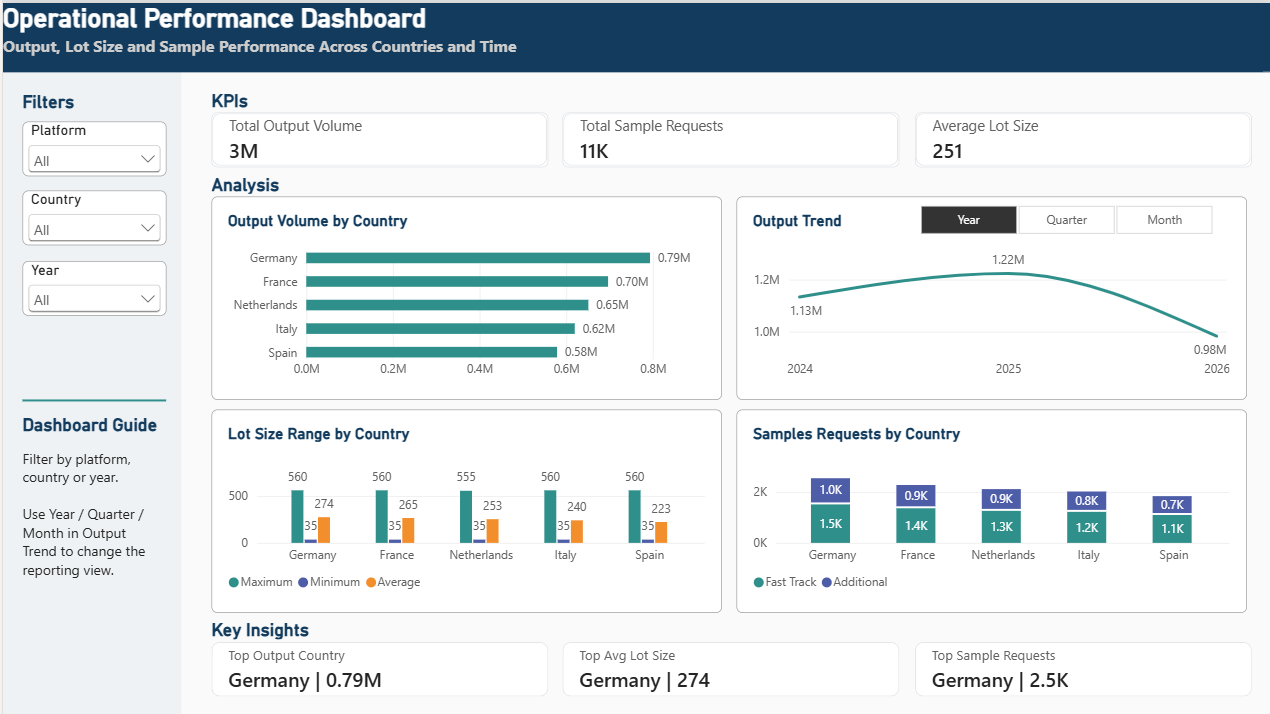

Layout of this report page (visuals, bound fields, positions):
{"tool":"powerbi","page":{"name":"Operational Dashboard","canvas":[1280,720],"ordinal":2},"visuals":[{"type":"shape","box":[0,70.4,180,650],"z":0},{"type":"shape","box":[0,0,1280,70],"z":1000},{"type":"cardVisual","fields":{"Data":["KPI_Data.Total Output"]},"box":[210,110,340,55],"z":2000},{"type":"cardVisual","fields":{"Data":["KPI_Data.Total Samples"]},"box":[565,110,340,55],"z":3000},{"type":"slicer","fields":{"Values":["KPI_Data.Country"]},"box":[20,190,145,55],"z":4000},{"type":"slicer","fields":{"Values":["KPI_Data.Platform"]},"box":[20,120,145,55],"z":5000},{"type":"slicer","fields":{"Values":["KPI_Data.Year"]},"box":[20,260,145,55],"z":6000},{"type":"clusteredBarChart","title":"Output Volume by Country","fields":{"Category":["KPI_Data.Country"],"Y":["KPI_Data.Total Output"]},"box":[210,196,515,205],"z":7000},{"type":"lineChart","title":"Output Trend ","fields":{"Category":["KPI_Data.Year View"],"Y":["KPI_Data.Total Output"]},"box":[740,196,515,205],"z":8000},{"type":"clusteredColumnChart","title":"Lot Size Range by Country","fields":{"Category":["KPI_Data.Country"],"Y":["KPI_Data.Maximum Lot Size","KPI_Data.Minimum Lot Size","KPI_Data.Average Lot Size"]},"box":[210,410,515,205],"z":9000},{"type":"columnChart","title":"Samples Requests by Country","fields":{"Category":["KPI_Data.Country"],"Y":["KPI_Data.Total Fast Track Samples","KPI_Data.Total Additional Samples"]},"box":[740,410,515,205],"z":10000},{"type":"cardVisual","fields":{"Data":["KPI_Data.Average Lot Size"]},"box":[920,110,340,55],"z":11000},{"type":"textbox","title":"Operational Performance Dashboard","box":[0,0,1280,70.3],"z":12000},{"type":"textbox","title":"Filters","box":[20,90,145,25],"z":13000},{"type":"slicer","fields":{"Values":["Reporting View.Reporting View"]},"box":[905.5,202.9,334.6,31.8],"z":14000},{"type":"textbox","title":"Dashboard Guide","box":[20,415,145,25],"z":15000},{"type":"textbox","box":[19.7,449.7,134.8,143.8],"z":16000},{"type":"cardVisual","fields":{"Data":["KPI_Data.Highest Output Insight"]},"box":[210,645,340,55],"z":17000},{"type":"cardVisual","fields":{"Data":["KPI_Data.Highest Avg Lot Size"]},"box":[565,645,340,55],"z":18000},{"type":"cardVisual","fields":{"Data":["KPI_Data.Highest Sample Requests"]},"box":[920,645,340,55],"z":19000},{"type":"shape","box":[20,395,145,12],"z":20000},{"type":"textbox","title":"KPIs","box":[210,88,150,20],"z":21000},{"type":"textbox","title":"Analysis","box":[210.5,172,300,20],"z":22000},{"type":"textbox","title":"Key Insights","box":[210.5,622,300,20],"z":23000}]}

Visuals, with their boxes in screenshot pixels (x1, y1, x2, y2), scaled from the page's 1280x720 canvas onto the 1270x714 screenshot:
shape: 0/70/179/713
shape: 0/0/1269/69
cardVisual - KPI_Data.Total Output: 208/109/546/164
cardVisual - KPI_Data.Total Samples: 561/109/898/164
slicer - KPI_Data.Country: 20/188/164/243
slicer - KPI_Data.Platform: 20/119/164/174
slicer - KPI_Data.Year: 20/258/164/312
"Output Volume by Country" clusteredBarChart: 208/194/719/398
"Output Trend " lineChart: 734/194/1245/398
"Lot Size Range by Country" clusteredColumnChart: 208/407/719/610
"Samples Requests by Country" columnChart: 734/407/1245/610
cardVisual - KPI_Data.Average Lot Size: 913/109/1250/164
"Operational Performance Dashboard" textbox: 0/0/1269/70
"Filters" textbox: 20/89/164/114
slicer - Reporting View.Reporting View: 898/201/1230/233
"Dashboard Guide" textbox: 20/412/164/436
textbox: 20/446/153/589
cardVisual - KPI_Data.Highest Output Insight: 208/640/546/694
cardVisual - KPI_Data.Highest Avg Lot Size: 561/640/898/694
cardVisual - KPI_Data.Highest Sample Requests: 913/640/1250/694
shape: 20/392/164/404
"KPIs" textbox: 208/87/357/107
"Analysis" textbox: 209/171/507/190
"Key Insights" textbox: 209/617/507/637
